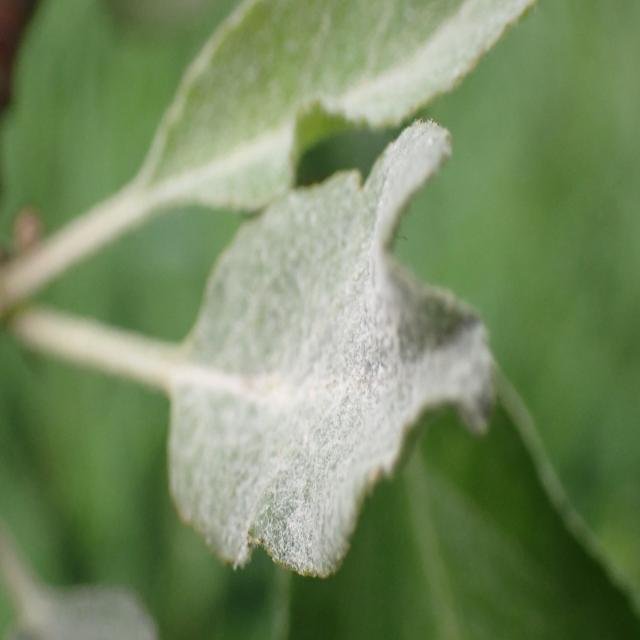Powdery_mildew: (143, 116, 530, 595), (130, 0, 544, 241)
